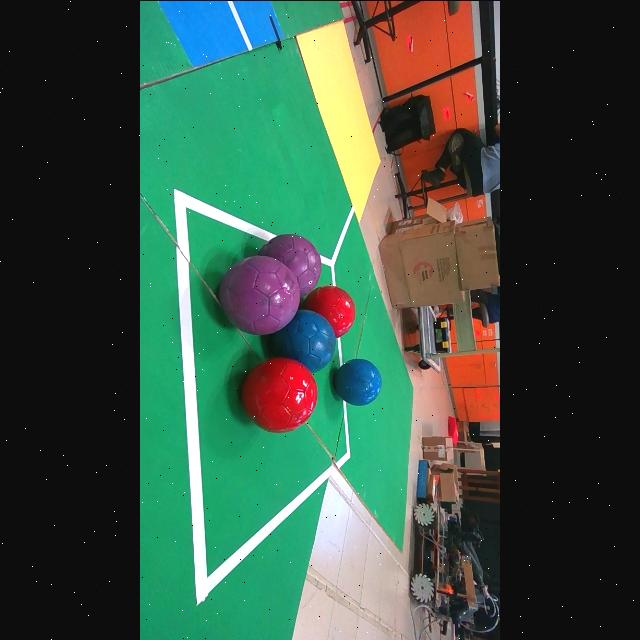B: (270, 309, 336, 372), (333, 358, 382, 405)
P: (219, 255, 300, 335), (259, 233, 322, 295)
R: (242, 357, 318, 431), (301, 285, 356, 337)
